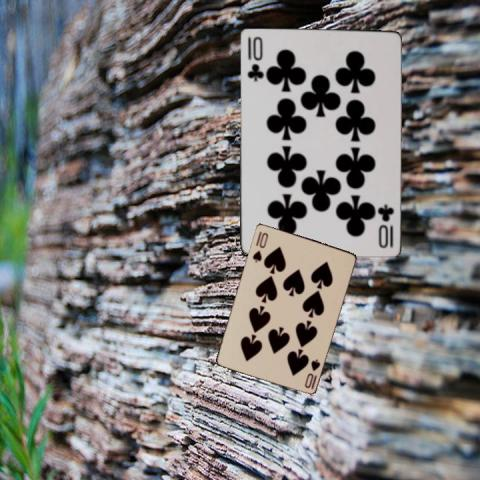10c: (244, 33, 264, 82), (374, 200, 394, 248)
10s: (301, 356, 322, 389), (250, 229, 270, 263)
